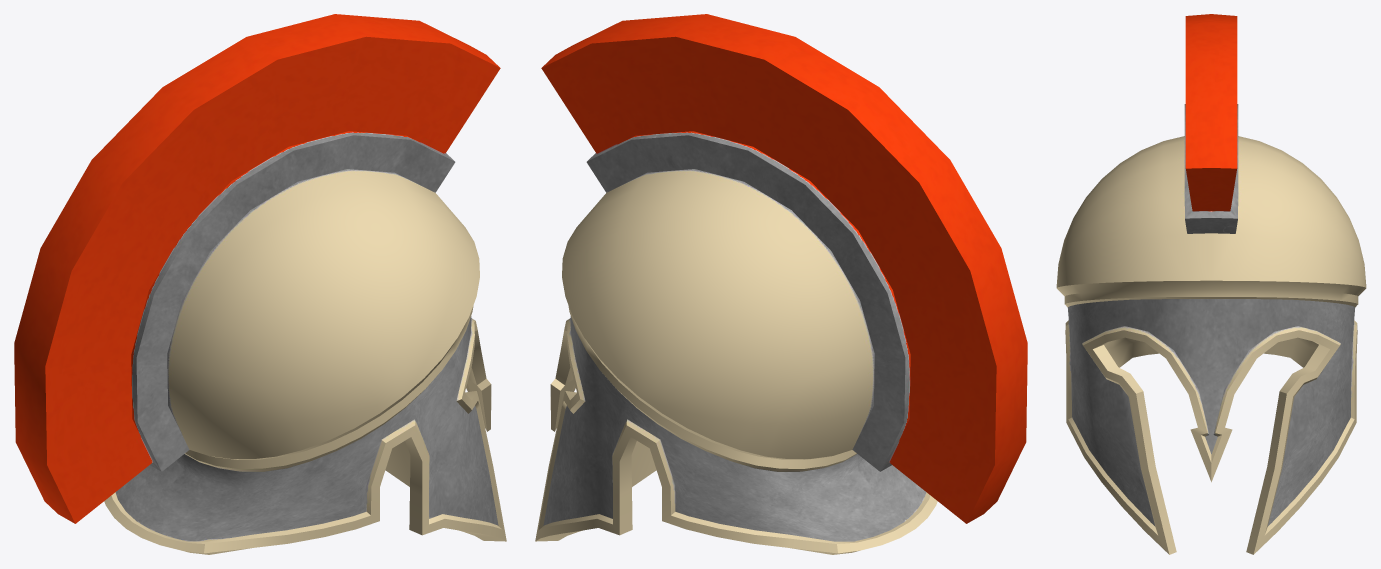
The picture shows the model from 3 angles, left to right: view 1: azimuth 30°, elevation 25°; view 2: azimuth 150°, elevation 25°; view 3: azimuth 270°, elevation 25°; orthographic projection. The views are drawn at different scales.
Parts seen in each view (by area): view 1: low_poly; view 2: low_poly; view 3: low_poly.
Boxes of the visible parts, box(x1,y1,x2,y2) form: low_poly: box(14, 14, 506, 554); low_poly: box(535, 14, 1027, 554); low_poly: box(1056, 14, 1366, 554).
Size of the model in its own units: 2.88 by 3.16 by 2.
1 material, 1 textured.
